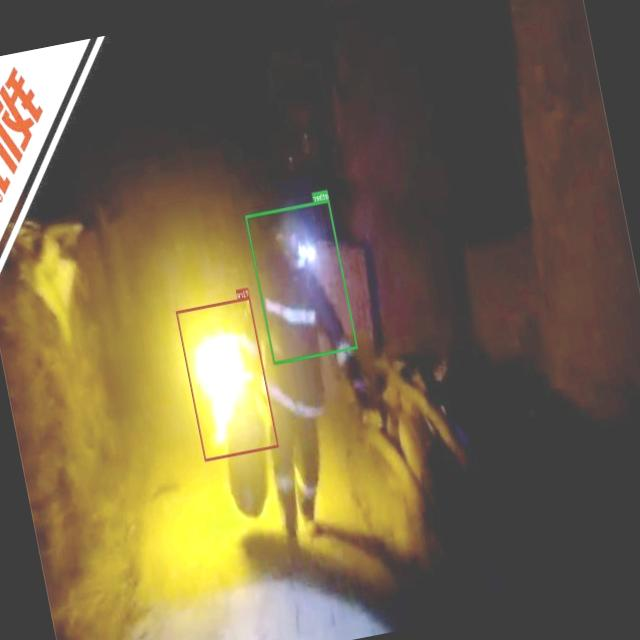fire: (176, 296, 279, 460)
